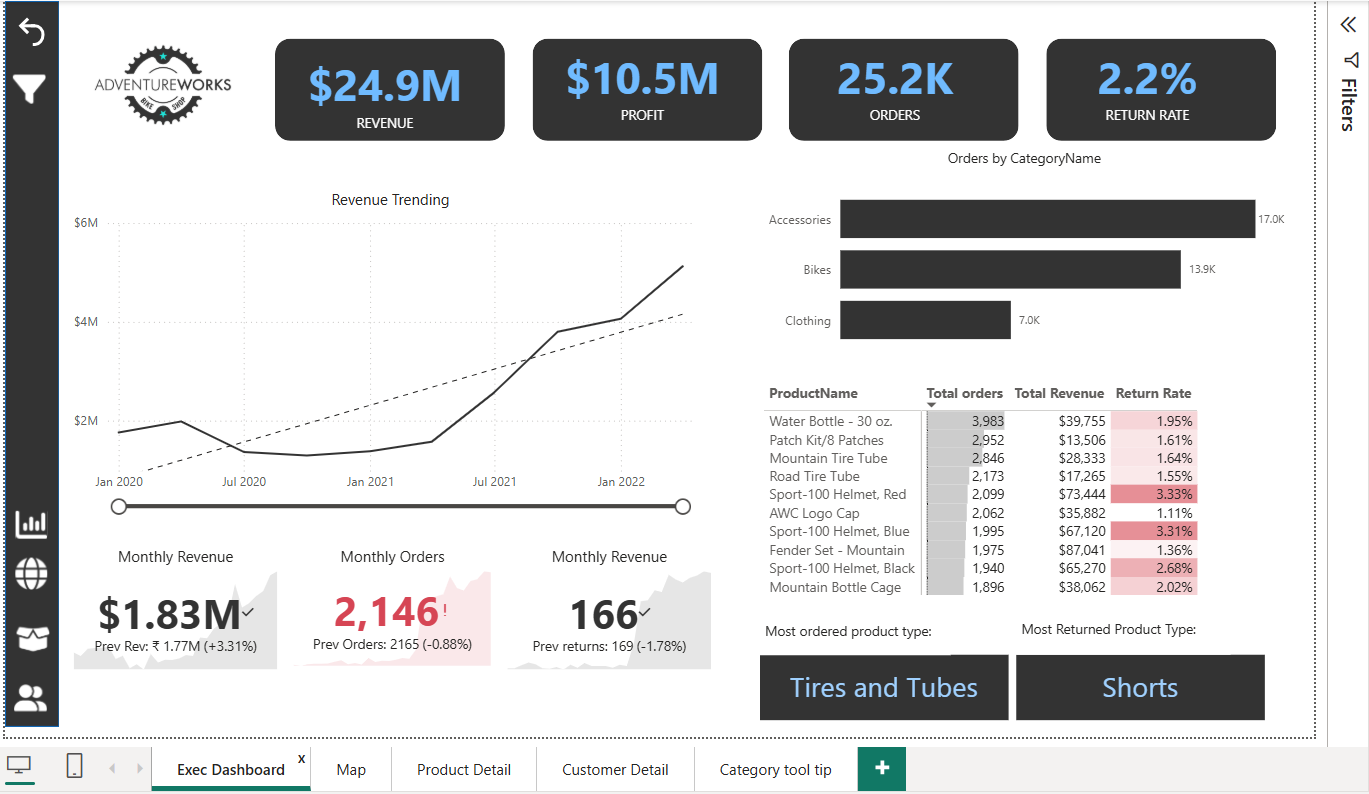

This screenshot's page, from the dashboard's own definition file:
{"tool":"powerbi","page":{"name":"Exec Dashboard","canvas":[1280,720],"ordinal":0},"visuals":[{"type":"group","id":"g1","title":"KPI Backrounds","box":[0,0,1243.4,710.1],"z":0,"group":"g3"},{"type":"card","fields":{"Values":["Measures Table.Total Revenue"]},"box":[245.6,30.1,251.9,118.6],"z":0,"group":"g2"},{"type":"shape","box":[263.9,36.2,225,100.3],"z":0,"group":"g1"},{"type":"image","title":"AW Logo","box":[63.6,36.7,182.2,91.7],"z":0},{"type":"actionButton","box":[4.9,661.6,41.8,40.4],"z":0,"group":"g4"},{"type":"group","id":"g2","title":"KPI Cards","box":[245.6,22.8,997.8,126],"z":1000,"group":"g3"},{"type":"card","fields":{"Values":["Measures Table.Total Profit"]},"box":[497.5,22.8,251.9,118.6],"z":1000,"group":"g2"},{"type":"shape","box":[515.4,36.2,225,100.3],"z":1000,"group":"g1"},{"type":"lineChart","title":"Revenue Trending","fields":{"Y":["Measures Table.Total Revenue"],"Category":["Calendar Lookup.Year","Calendar Lookup.Start of Quarter","Calendar Lookup.Start of Month"]},"box":[62.4,183.4,629.8,321.6],"z":1000},{"type":"actionButton","box":[7.8,603.8,41.8,40.4],"z":1000,"group":"g4"},{"type":"shape","box":[0,0,53.2,710.1],"z":2000,"group":"g1"},{"type":"card","fields":{"Values":["Measures Table.All orders"]},"box":[744.5,22.8,251.9,118.6],"z":2000,"group":"g2"},{"type":"actionButton","box":[5.7,492.8,41.6,39.1],"z":2000,"group":"g4"},{"type":"kpi","title":"Monthly Revenue","fields":{"Indicator":["Measures Table.Total Revenue"],"Goal":["Measures Table.Previous Month Revenue"],"TrendLine":["Calendar Lookup.Start of Month"]},"box":[62.4,533.2,209.1,126],"z":2000},{"type":"card","fields":{"Values":["Measures Table.Return Rate"]},"box":[991.5,22.8,251.9,118.6],"z":3000,"group":"g2"},{"type":"shape","box":[766.9,36.2,225,100.3],"z":3000,"group":"g1"},{"type":"kpi","title":"Monthly Orders","fields":{"TrendLine":["Calendar Lookup.Start of Month"],"Goal":["Measures Table.Previous Month Orders"],"Indicator":["Measures Table.Total orders"]},"box":[277.6,533.2,203,122.3],"z":3000},{"type":"actionButton","box":[6,540.3,41.3,39.5],"z":3000,"group":"g4"},{"type":"shape","box":[1018.4,36.2,225,100.3],"z":4000,"group":"g1"},{"type":"kpi","title":"Monthly Revenue","fields":{"TrendLine":["Calendar Lookup.Start of Month"],"Indicator":["Measures Table.Total Returns"],"Goal":["Measures Table.Previous Month Returns"]},"box":[486.7,533.2,209.1,126],"z":4000},{"type":"clusteredBarChart","title":"Orders by CategoryName","fields":{"Category":["Product Categories Lookup.CategoryName"],"Y":["Measures Table.Total orders"]},"box":[737.3,144.3,519.4,213.5],"z":5000},{"type":"pivotTable","fields":{"Rows":["Product Lookup.ProductName"],"Values":["Measures Table.Total orders","Measures Table.Total Revenue","Measures Table.Return Rate"]},"box":[737.3,369.3,520.8,225.1],"z":6000},{"type":"group","id":"g3","title":"KPI's","box":[0,0,1243.6,710.5],"z":7000},{"type":"card","fields":{"Values":["Min(Product Subcategories Lookup.SubcategoryName)"]},"box":[738.3,639.5,243.2,64.2],"z":8000},{"type":"textbox","box":[738.3,601.2,186.4,38.3],"z":9000},{"type":"card","fields":{"Values":["Min(Product Subcategories Lookup.SubcategoryName)"]},"box":[988.9,639.5,243.2,64.2],"z":10000},{"type":"textbox","box":[988.9,600,209.9,39.5],"z":11000},{"type":"actionButton","box":[7.3,11,37.9,37.9],"z":12000},{"type":"group","id":"g4","title":"Navigation button","box":[4.9,492.8,45.2,209.1],"z":13000},{"type":"actionButton","box":[3.7,66,45.2,40.4],"z":14000}]}

Visuals, with their boxes on the page's 1280x720 design canvas (x1, y1, x2, y2). These are canvas units, not pixel positions in the 1369x794 screenshot, which may show the page scaled, cropped or inside an application window:
"KPI Backrounds" group: (left=0, top=0, right=1243, bottom=710)
card - Measures Table.Total Revenue: (left=246, top=30, right=498, bottom=149)
shape: (left=264, top=36, right=489, bottom=136)
"AW Logo" image: (left=64, top=37, right=246, bottom=128)
actionButton: (left=5, top=662, right=47, bottom=702)
"KPI Cards" group: (left=246, top=23, right=1243, bottom=149)
card - Measures Table.Total Profit: (left=498, top=23, right=749, bottom=141)
shape: (left=515, top=36, right=740, bottom=136)
"Revenue Trending" lineChart: (left=62, top=183, right=692, bottom=505)
actionButton: (left=8, top=604, right=50, bottom=644)
shape: (left=0, top=0, right=53, bottom=710)
card - Measures Table.All orders: (left=744, top=23, right=996, bottom=141)
actionButton: (left=6, top=493, right=47, bottom=532)
"Monthly Revenue" kpi: (left=62, top=533, right=272, bottom=659)
card - Measures Table.Return Rate: (left=992, top=23, right=1243, bottom=141)
shape: (left=767, top=36, right=992, bottom=136)
"Monthly Orders" kpi: (left=278, top=533, right=481, bottom=656)
actionButton: (left=6, top=540, right=47, bottom=580)
shape: (left=1018, top=36, right=1243, bottom=136)
"Monthly Revenue" kpi: (left=487, top=533, right=696, bottom=659)
"Orders by CategoryName" clusteredBarChart: (left=737, top=144, right=1257, bottom=358)
pivotTable - Product Lookup.ProductName x Measures Table.Total orders: (left=737, top=369, right=1258, bottom=594)
"KPI's" group: (left=0, top=0, right=1244, bottom=710)
card - Min(Product Subcategories Lookup.SubcategoryName): (left=738, top=640, right=982, bottom=704)
textbox: (left=738, top=601, right=925, bottom=640)
card - Min(Product Subcategories Lookup.SubcategoryName): (left=989, top=640, right=1232, bottom=704)
textbox: (left=989, top=600, right=1199, bottom=640)
actionButton: (left=7, top=11, right=45, bottom=49)
"Navigation button" group: (left=5, top=493, right=50, bottom=702)
actionButton: (left=4, top=66, right=49, bottom=106)
